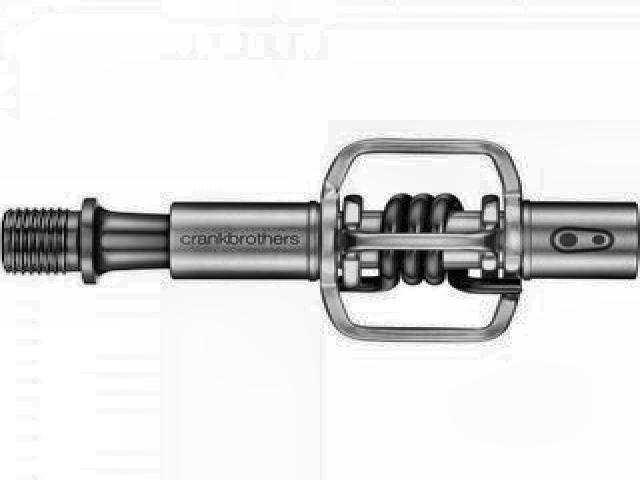pedal: (4, 132, 640, 350)
